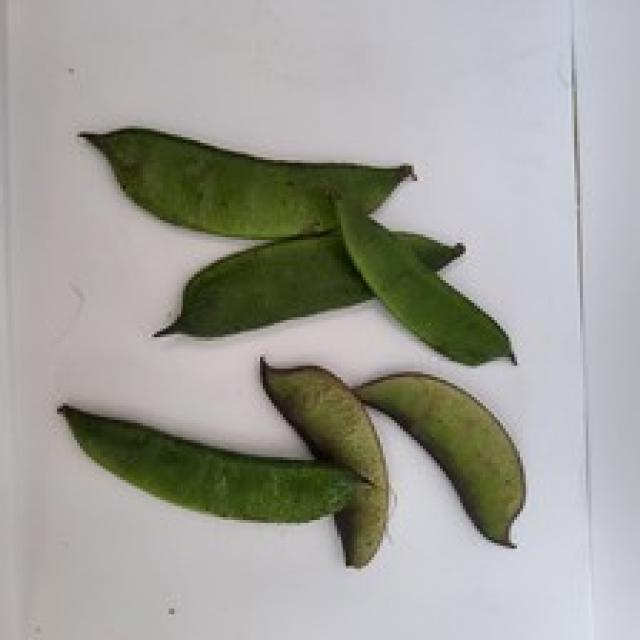Bean: (74, 123, 414, 240), (55, 400, 372, 523), (348, 368, 526, 548), (257, 354, 389, 566)
